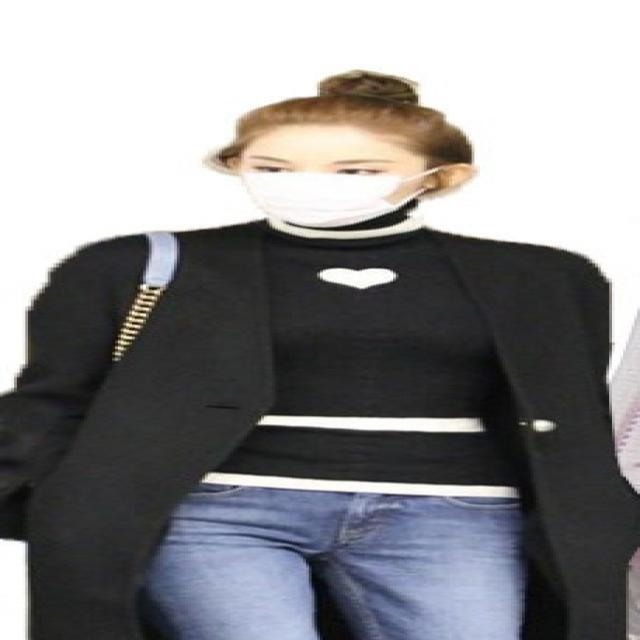mask: (240, 134, 422, 225)
